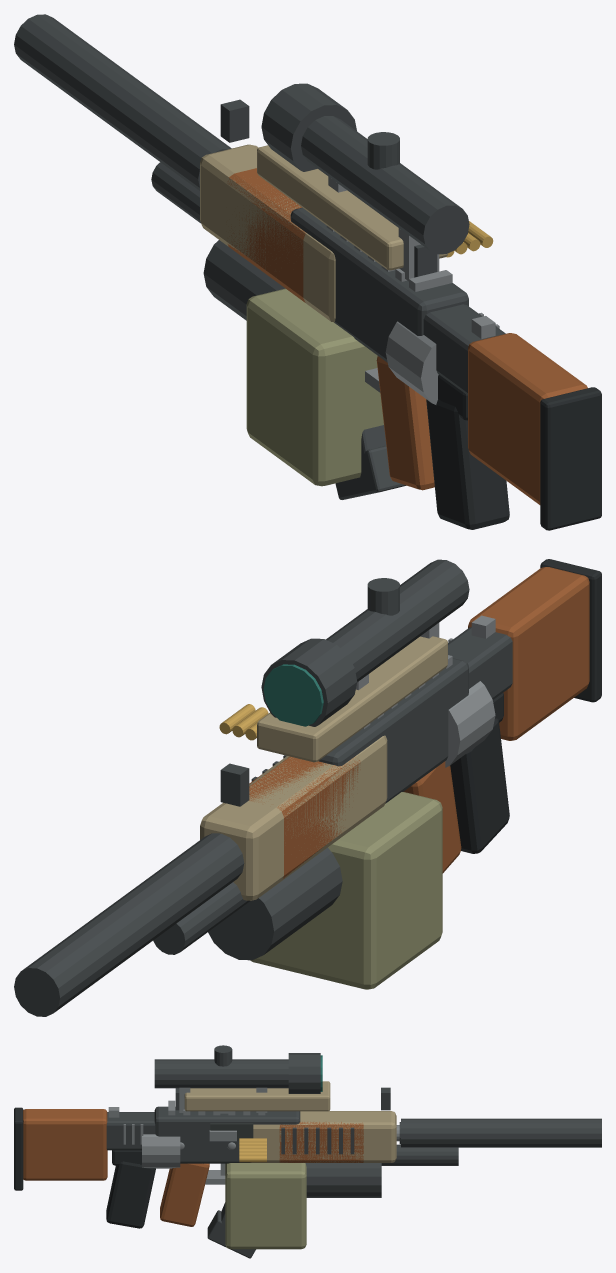
The model's file is arsenal.glb.
The picture shows the model from 3 angles, top to bottom: view 1: azimuth 30°, elevation 25°; view 2: azimuth 150°, elevation 25°; view 3: azimuth 270°, elevation 25°; orthographic projection. The views are drawn at different scales.
Parts seen in each view (by area): view 1: W_ak, W_m249, W_aug, W_cz, W_awp, W_mp5, W_p90, W_m4s, W_bizon, W_r8, W_deagle, W_mag7; view 2: W_ak, W_m249, W_aug, W_awp, W_m4s, W_p90, W_cz, W_bizon, W_mp5, W_r8, W_mag7, W_deagle; view 3: W_ak, W_m249, W_aug, W_awp, W_cz, W_p90, W_mp5, W_m4s, W_bizon, W_r8, W_mag7, W_deagle.
Boxes of the visible parts, left/top/right/bottom form: W_ak: left=220, top=99, right=601, bottom=530; W_m249: left=246, top=221, right=493, bottom=486; W_aug: left=261, top=83, right=469, bottom=281; W_cz: left=423, top=305, right=509, bottom=529; W_awp: left=200, top=144, right=335, bottom=322; W_mp5: left=100, top=77, right=231, bottom=190; W_p90: left=257, top=145, right=447, bottom=270; W_m4s: left=14, top=14, right=138, bottom=130; W_bizon: left=203, top=240, right=285, bottom=320; W_r8: left=385, top=321, right=438, bottom=404; W_deagle: left=423, top=304, right=505, bottom=395; W_mag7: left=151, top=162, right=200, bottom=223; W_ak: left=220, top=559, right=601, bottom=878; W_m249: left=219, top=704, right=442, bottom=989; W_aug: left=261, top=559, right=469, bottom=726; W_awp: left=200, top=735, right=387, bottom=900; W_m4s: left=14, top=896, right=157, bottom=1016; W_p90: left=257, top=636, right=447, bottom=762; W_cz: left=448, top=615, right=509, bottom=853; W_bizon: left=208, top=847, right=342, bottom=960; W_mp5: left=118, top=833, right=244, bottom=949; W_r8: left=445, top=681, right=495, bottom=767; W_mag7: left=153, top=882, right=249, bottom=954; W_deagle: left=448, top=627, right=512, bottom=698; W_ak: left=14, top=1087, right=399, bottom=1258; W_m249: left=225, top=1138, right=306, bottom=1249; W_aug: left=154, top=1045, right=322, bottom=1112; W_awp: left=250, top=1111, right=396, bottom=1162; W_cz: left=106, top=1107, right=233, bottom=1228; W_p90: left=184, top=1081, right=330, bottom=1111; W_mp5: left=401, top=1118, right=507, bottom=1147; W_m4s: left=495, top=1118, right=601, bottom=1147; W_bizon: left=305, top=1122, right=400, bottom=1197; W_r8: left=142, top=1134, right=180, bottom=1168; W_mag7: left=381, top=1144, right=458, bottom=1165; W_deagle: left=106, top=1112, right=154, bottom=1150.
Size of the model in its own units: 0.278 by 0.5273 by 1.37.
